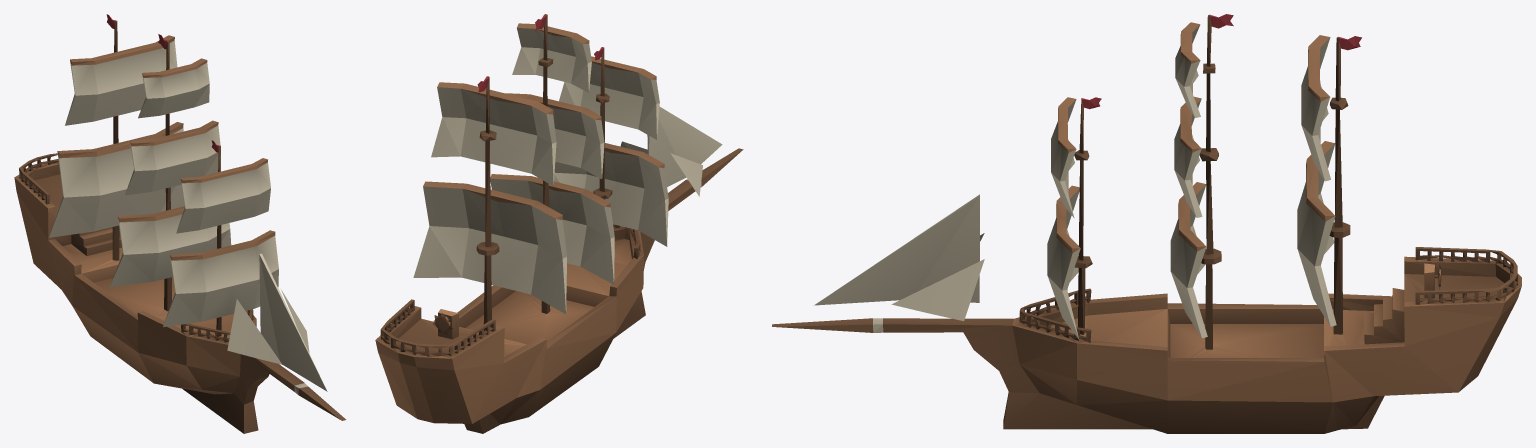
Rendered from boat-ship.glb.
3 renders of one model, left to right at view 1: azimuth 30°, elevation 25°; view 2: azimuth 150°, elevation 25°; view 3: azimuth 270°, elevation 25°, orthographic. The views are drawn at different scales.
Parts seen in each view (by area): view 1: boat-ship; view 2: boat-ship; view 3: boat-ship.
Boxes of the visible parts, x1,y1,x2,y2 form: boat-ship: (14, 14, 346, 433); boat-ship: (375, 14, 743, 433); boat-ship: (772, 14, 1521, 433).
Bounding box in the file's own units: 3.94 × 9 × 14.89.
